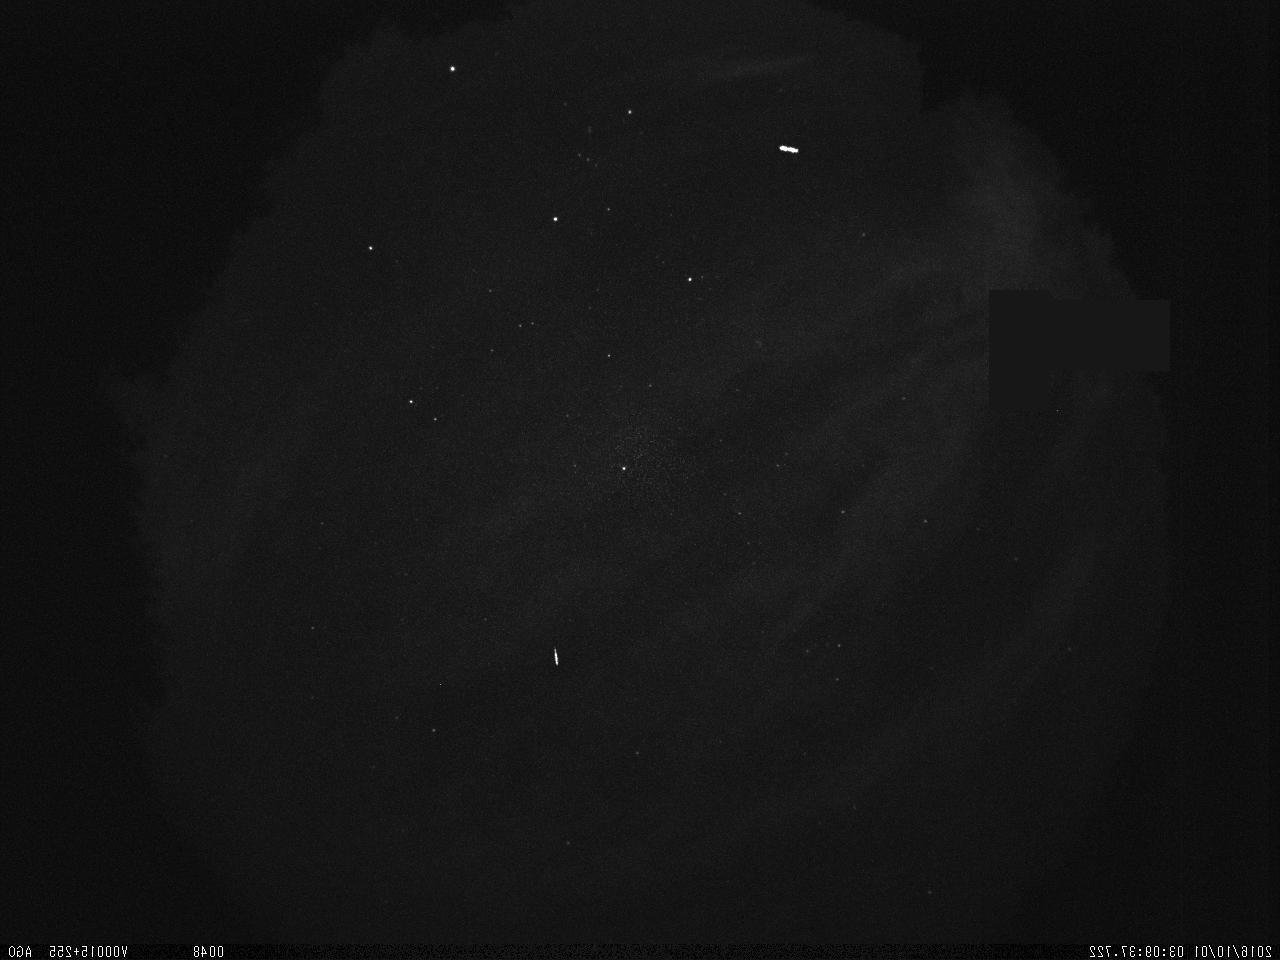meteor: (548, 641, 565, 676)
satelite: (770, 139, 804, 165)
